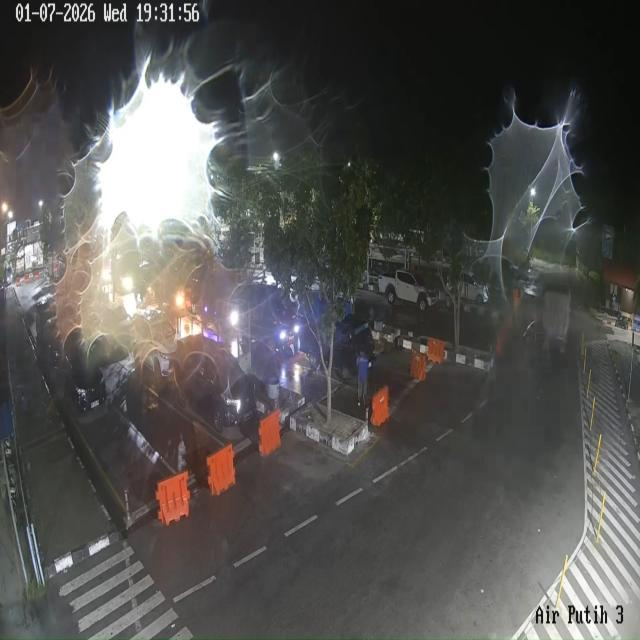Golongan IVA: (175, 335, 257, 433), (300, 314, 376, 378), (60, 329, 106, 413), (131, 309, 178, 379)
Golongan IVB: (378, 270, 438, 311)
Golongan VB: (542, 286, 571, 355)
